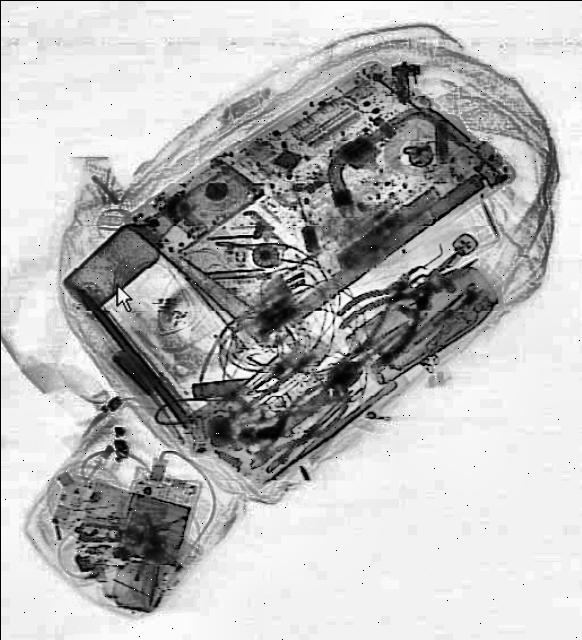Pliers: (332, 220, 484, 370), (231, 370, 352, 482), (325, 246, 437, 352)
